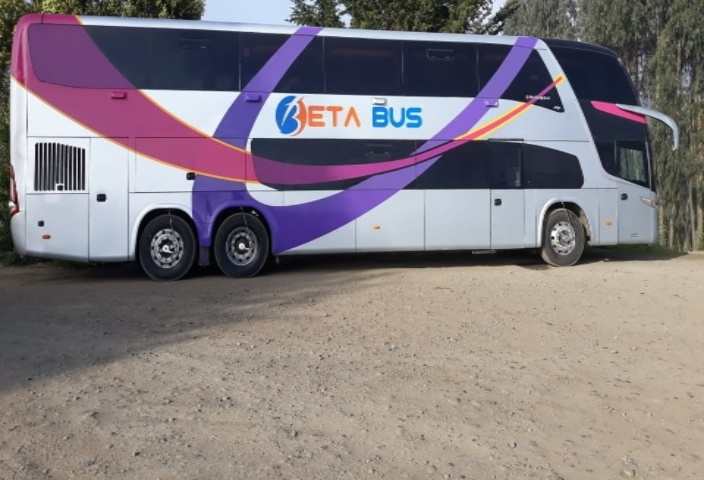bus: (2, 3, 685, 294)
